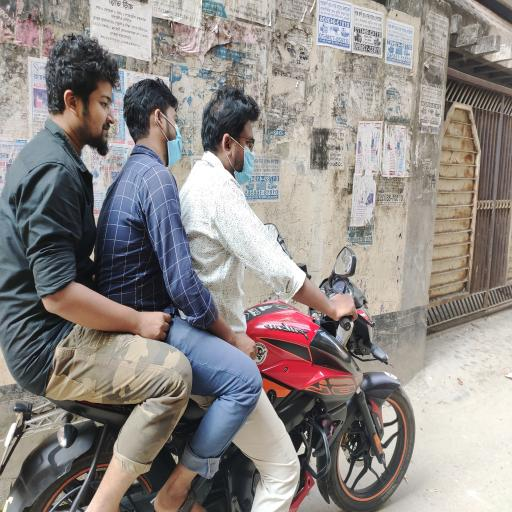helmet: (154, 110, 184, 168)
overloading: (2, 243, 416, 510)
